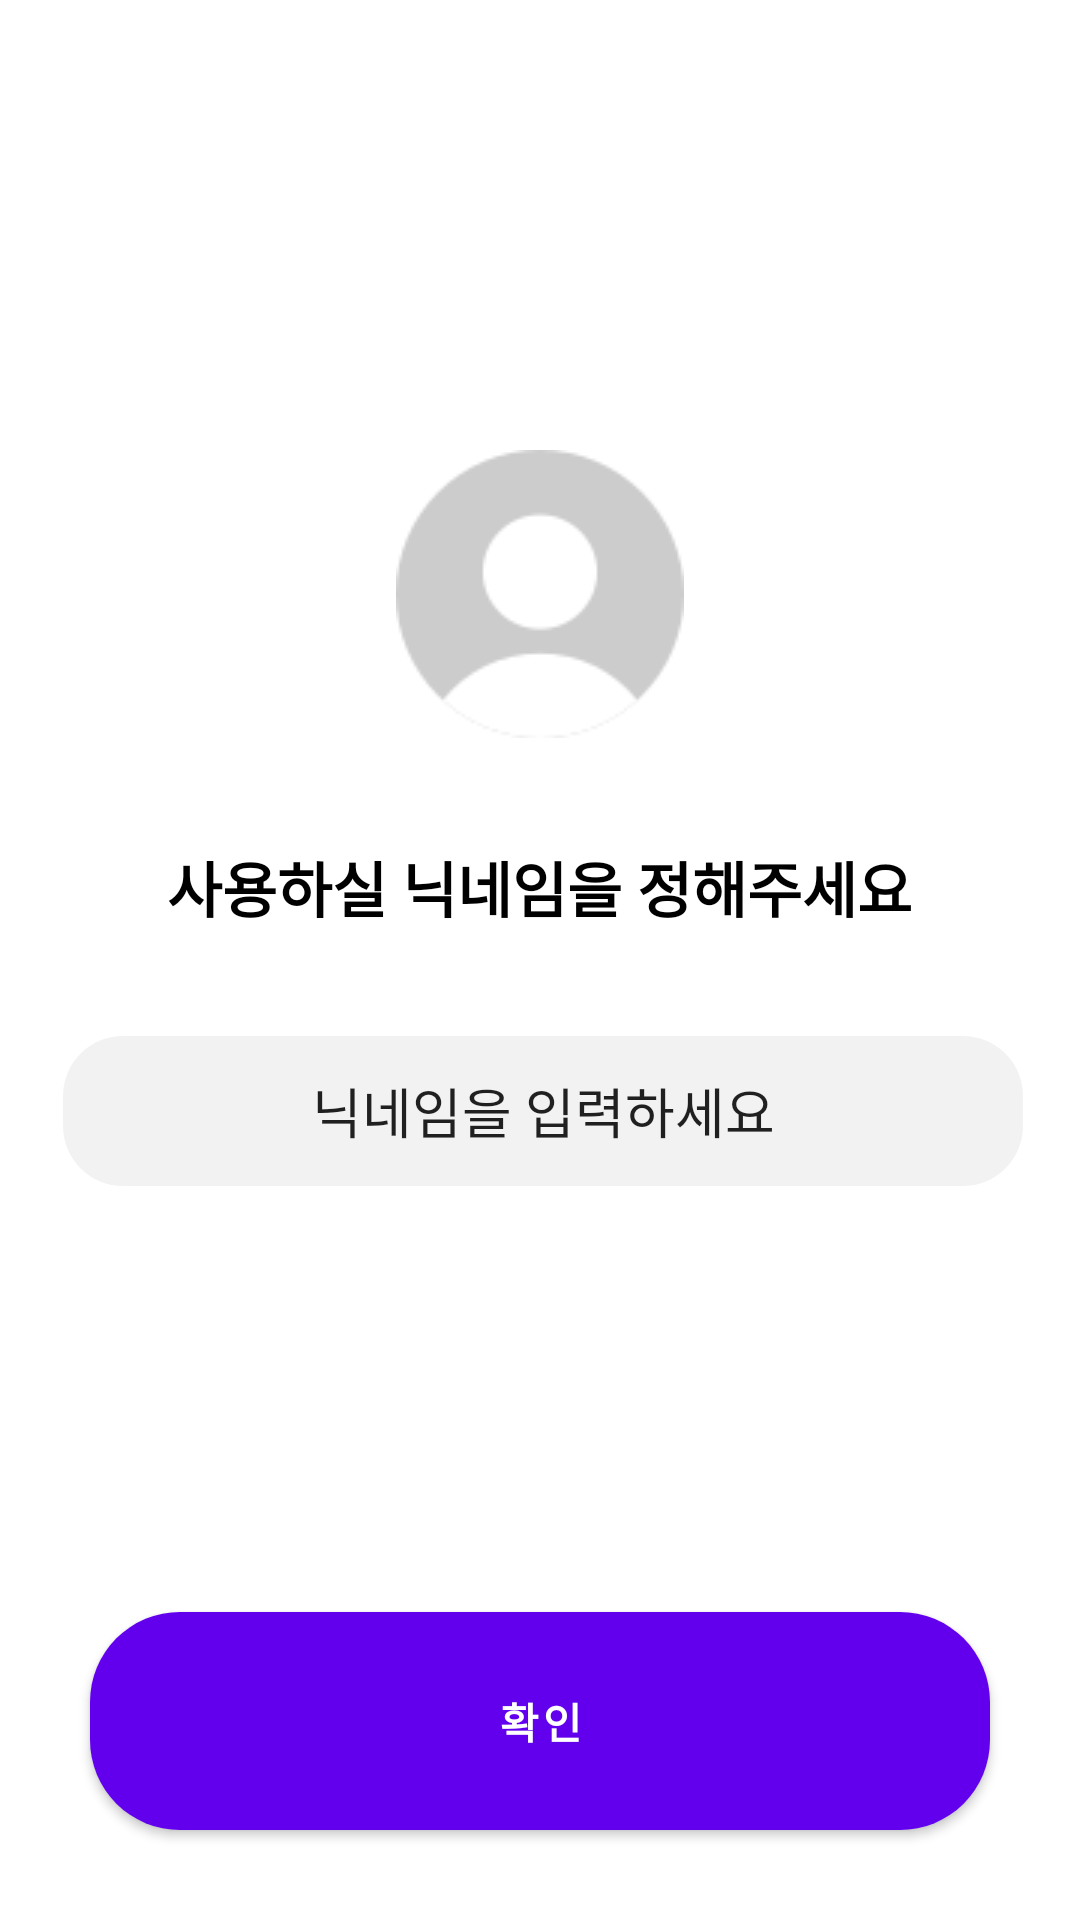

Screen size 1080 × 1920. Icon name, then its box in pixels as [x1=x1, y1=y1, x2=x2, y2=y2]:
profileicon: [x1=396, y1=450, x2=684, y2=700]
